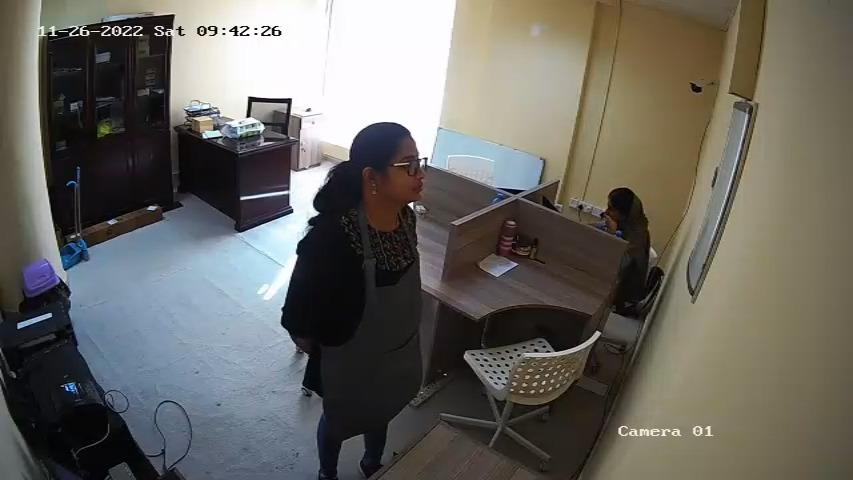apron: (324, 212, 420, 391)
